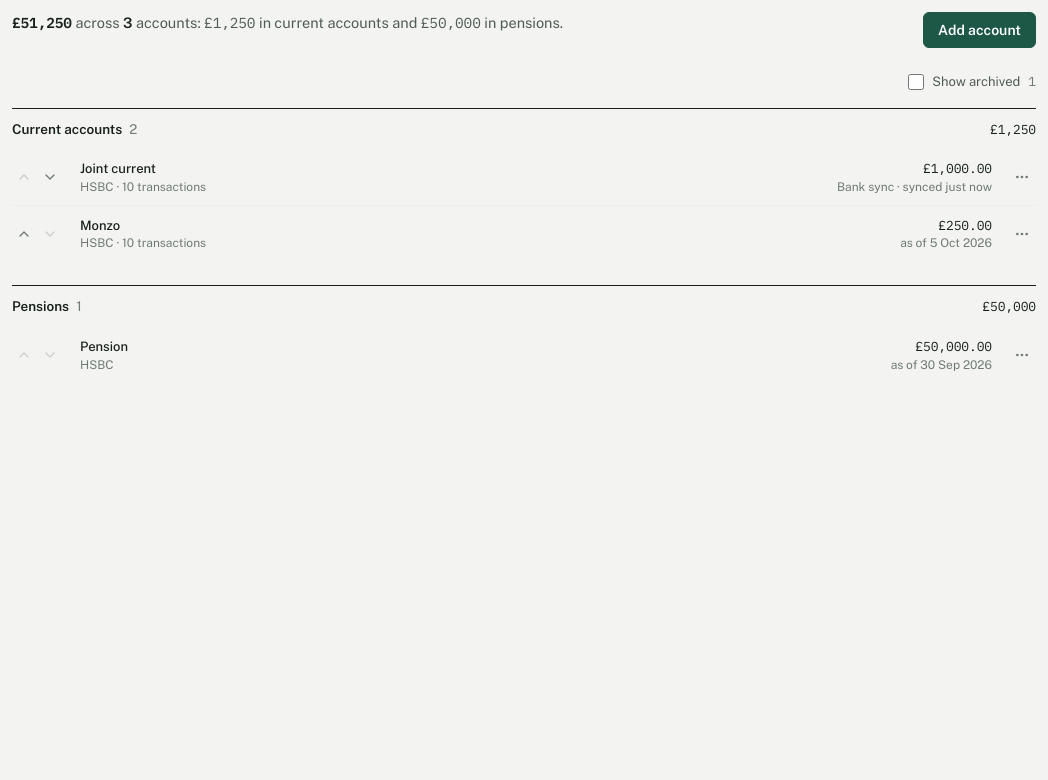
Scenario: Accounts page › puts the order back and says so when saving fails
This screenshot has width=1048, height=780.
Expected: the link "Joint current" is shown, left=80, top=161, right=156, bottom=176
Click the button named "Move Joint current down" at (50, 177), box left=38, top=163, right=62, bottom=191
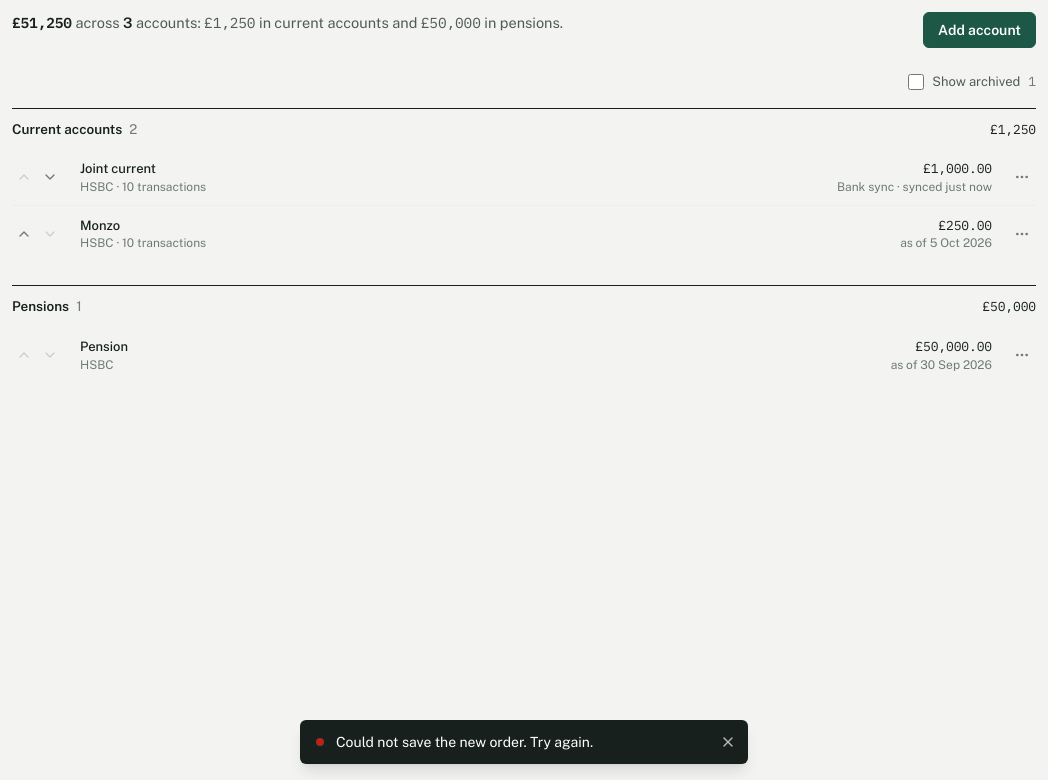
Expected: the text "Could not save the new order. Try again." is shown, left=335, top=733, right=593, bottom=750
